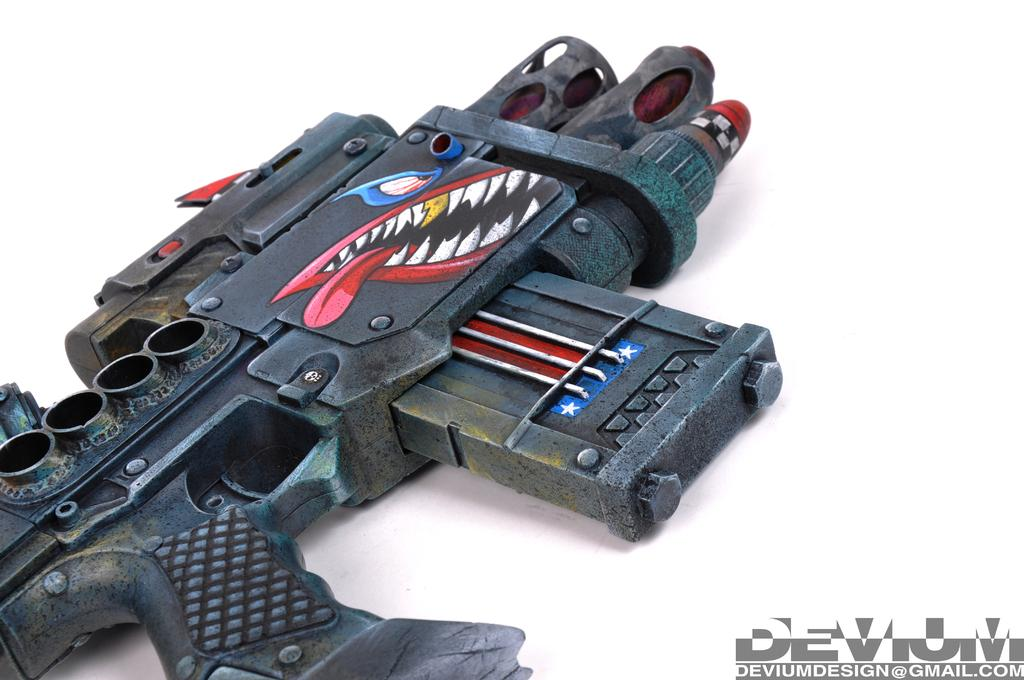Handgun: (0, 34, 780, 679)
